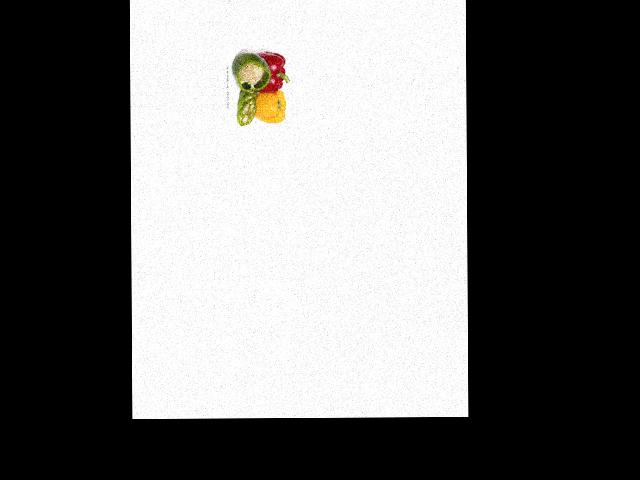bell_pepper: (234, 49, 272, 92)
